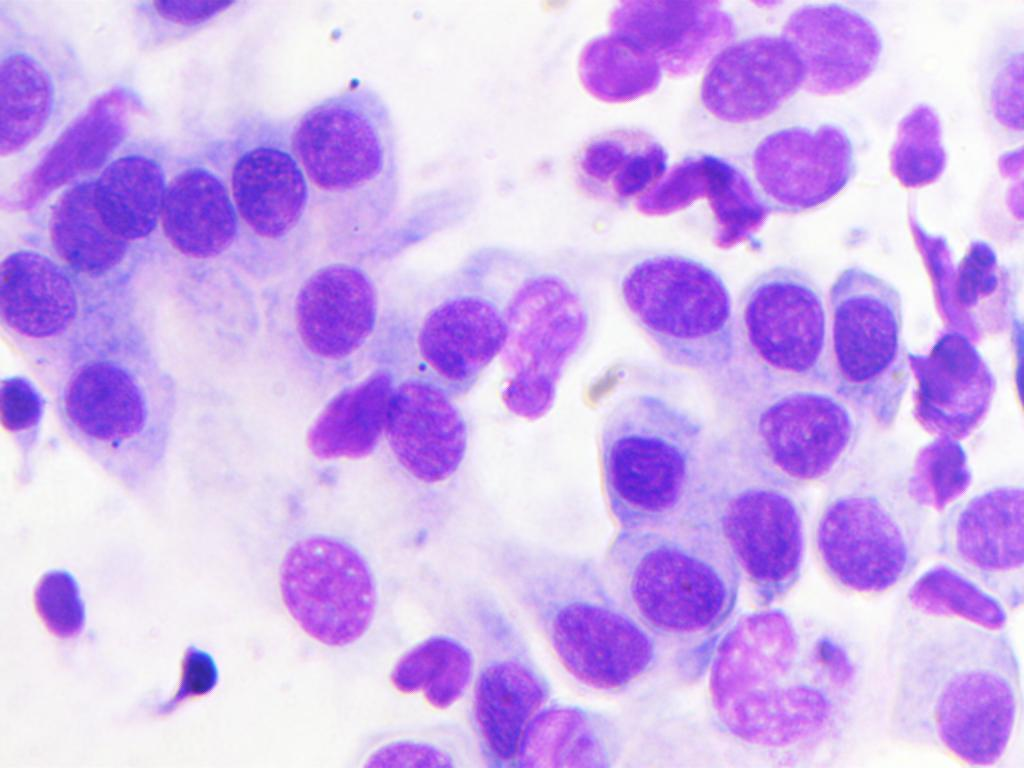artifact: (10, 89, 171, 201), (490, 271, 591, 428), (639, 148, 764, 238), (913, 312, 996, 440), (296, 373, 398, 474), (601, 0, 731, 69), (912, 550, 1021, 631), (903, 432, 973, 508)
epithelial: (53, 330, 180, 484), (709, 612, 834, 749), (894, 631, 1018, 767), (620, 237, 739, 376), (265, 525, 385, 655), (300, 70, 392, 222), (830, 267, 914, 427), (734, 254, 827, 391), (595, 396, 703, 513), (809, 473, 900, 603), (287, 251, 386, 367), (47, 168, 141, 289), (746, 382, 853, 487), (525, 601, 647, 693), (715, 483, 804, 608), (741, 120, 859, 213), (779, 3, 886, 98), (389, 376, 469, 497), (466, 640, 547, 759), (160, 154, 237, 274), (0, 240, 87, 341), (414, 282, 505, 376), (228, 137, 301, 249), (0, 37, 63, 166), (633, 545, 727, 631), (952, 474, 1024, 586), (698, 45, 804, 114), (574, 25, 666, 102), (884, 90, 943, 204), (93, 151, 164, 245), (378, 639, 478, 705), (356, 730, 469, 768), (134, 0, 260, 32), (984, 52, 1024, 139)
metaplastic: (29, 554, 104, 656), (156, 649, 236, 711), (0, 363, 50, 461)
neutrophil: (561, 119, 674, 208), (949, 222, 1015, 341)
